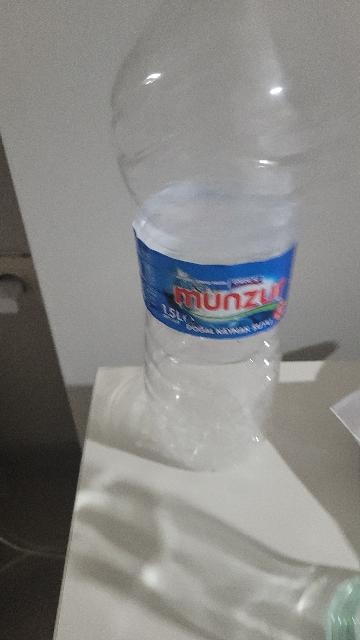Plastik: (96, 0, 316, 478)
